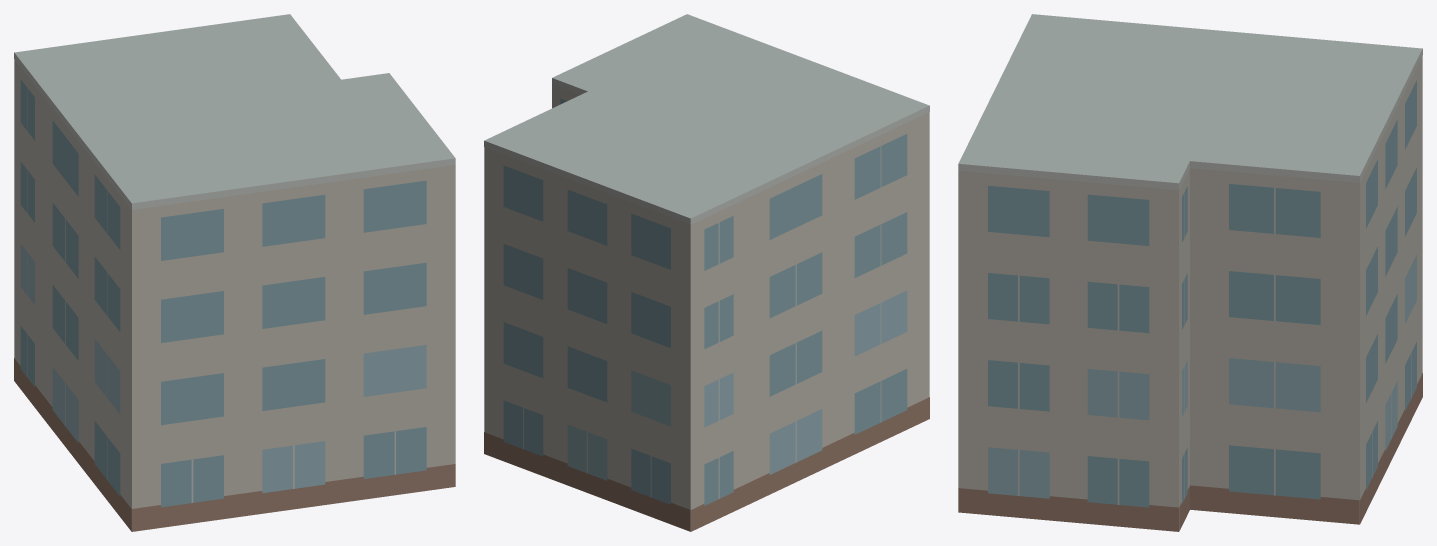
Rendered from residential-93af3146-57f3-4ca7-be82-8b4d8ecba727.glb.
3 views of the same model, side by side, from view 1: azimuth 30°, elevation 25°; view 2: azimuth 150°, elevation 25°; view 3: azimuth 270°, elevation 25° (orthographic). The views are drawn at different scales.
Parts seen in each view (by area): view 1: residential-93af3146-57f3-4ca7-be82-8b4d8ecba727.tmp; view 2: residential-93af3146-57f3-4ca7-be82-8b4d8ecba727.tmp; view 3: residential-93af3146-57f3-4ca7-be82-8b4d8ecba727.tmp.
Boxes of the visible parts, bbox=[...] form: residential-93af3146-57f3-4ca7-be82-8b4d8ecba727.tmp: bbox=[14, 14, 455, 531]; residential-93af3146-57f3-4ca7-be82-8b4d8ecba727.tmp: bbox=[484, 14, 929, 531]; residential-93af3146-57f3-4ca7-be82-8b4d8ecba727.tmp: bbox=[958, 14, 1422, 531].
Bounding box in the file's own units: 12.71 × 12.2 × 14.74.
